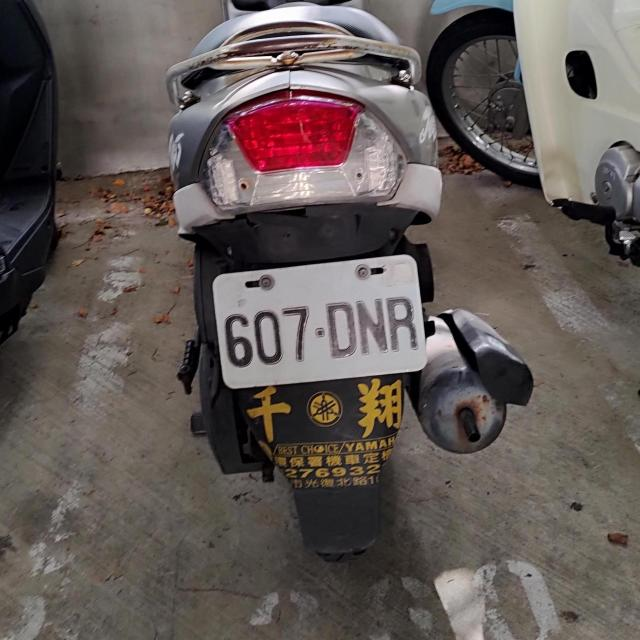W: (210, 256, 428, 389)
